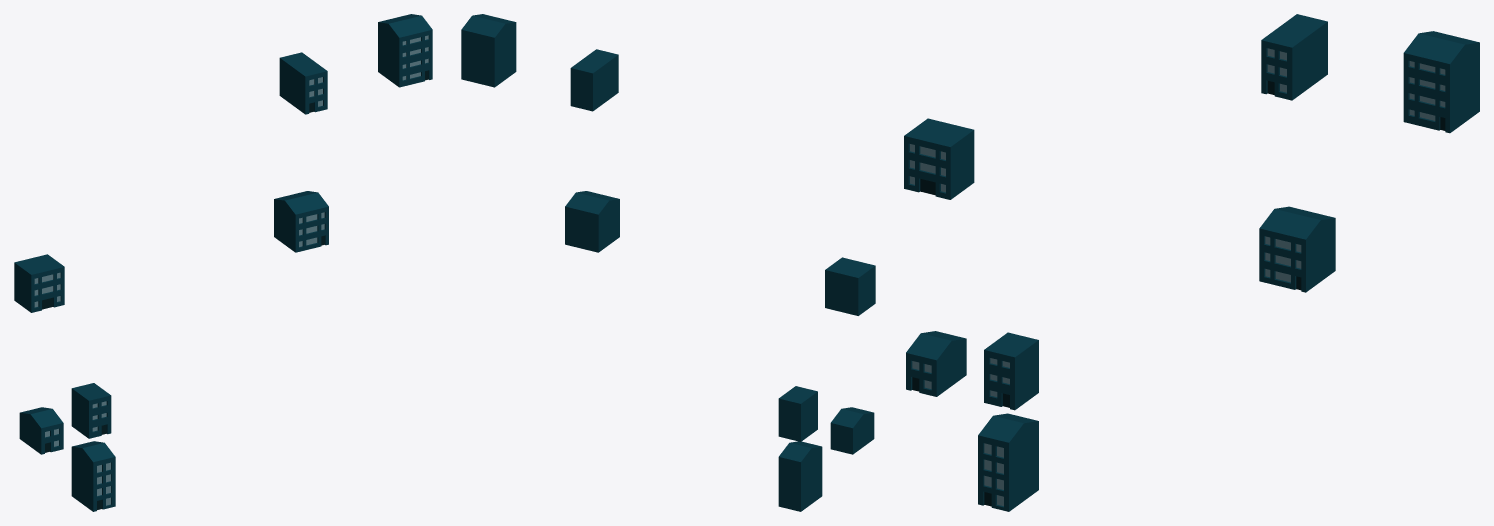
Rendered from BinaGrup2.gltf.
3 renders of one model, left to right at view 1: azimuth 30°, elevation 25°; view 2: azimuth 150°, elevation 25°; view 3: azimuth 330°, elevation 25°, orthographic. The views are drawn at different scales.
Parts seen in each view (by area): view 1: Building_071.014, Building_059.016, Building_034.016, Building_057.016, Building_024.016, Building_033.016, Building_026.016; view 2: Building_071.014, Building_059.016, Building_034.016, Building_024.016, Building_057.016, Building_033.016, Building_026.016; view 3: Building_071.014, Building_059.016, Building_034.016, Building_057.016, Building_024.016, Building_033.016, Building_026.016.
Part boxes in pixels (x1,y1,x2,y2): Building_071.014: (378, 14, 432, 87); Building_059.016: (274, 191, 328, 252); Building_034.016: (71, 441, 115, 511); Building_057.016: (279, 52, 327, 114); Building_024.016: (14, 254, 64, 312); Building_033.016: (71, 383, 111, 438); Building_026.016: (19, 407, 63, 454); Building_071.014: (461, 14, 516, 87); Building_059.016: (565, 191, 619, 252); Building_034.016: (778, 441, 822, 511); Building_024.016: (825, 257, 875, 315); Building_057.016: (570, 49, 618, 111); Building_033.016: (778, 386, 817, 441); Building_026.016: (830, 407, 874, 454); Building_071.014: (1403, 31, 1479, 133); Building_059.016: (1259, 206, 1335, 292); Building_034.016: (978, 413, 1038, 511); Building_057.016: (1261, 14, 1327, 100); Building_024.016: (904, 118, 974, 199); Building_033.016: (984, 332, 1038, 410); Building_026.016: (906, 331, 966, 396).
Bounding box in the file's own units: 0.5812 × 0.5674 × 0.0652.
